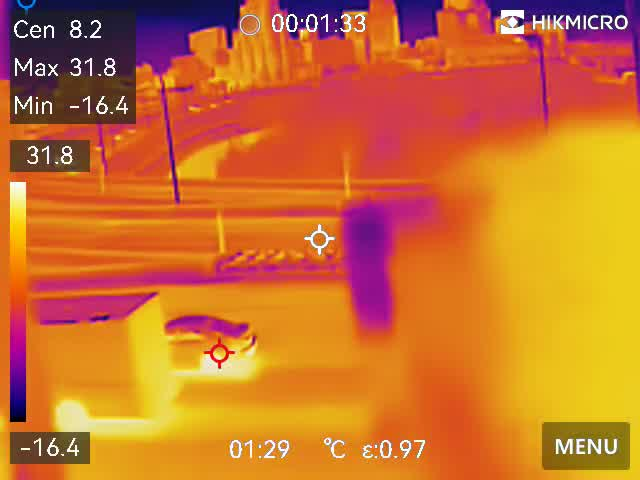heavyTruck: (16, 290, 181, 431)
smallCar: (162, 310, 263, 371)
